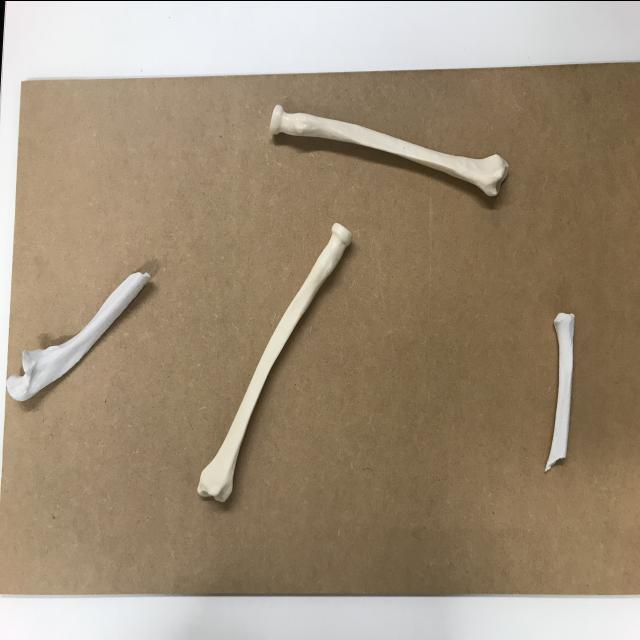bone: (194, 212, 360, 510), (264, 98, 513, 204), (4, 261, 158, 409), (540, 303, 583, 475)
